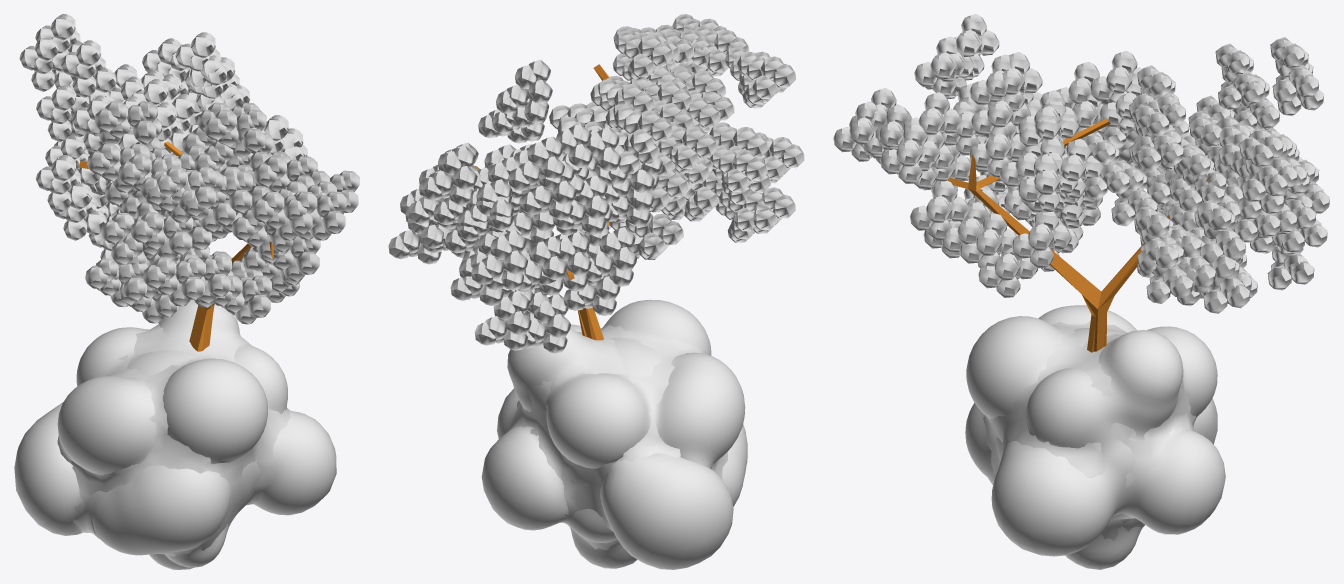
File: tree2.fbx
3 views of the same model, side by side, from view 1: azimuth 30°, elevation 25°; view 2: azimuth 150°, elevation 25°; view 3: azimuth 270°, elevation 25° (orthographic). The views are drawn at different scales.
Parts seen in each view (by area): view 1: particule, feuillage, feuillage.001, custom normals, Vert; view 2: particule, feuillage.001, feuillage, custom normals, Vert; view 3: particule, feuillage, feuillage.001, custom normals, Vert.
Boxes of the visible parts, box(x1,y1,x2,y2) form: particule: box(14, 299, 336, 569); feuillage: box(85, 101, 359, 324); feuillage.001: box(19, 14, 318, 258); custom normals: box(71, 324, 290, 556); Vert: box(79, 141, 273, 351); particule: box(481, 299, 747, 569); feuillage.001: box(388, 59, 662, 353); feuillage: box(549, 14, 804, 259); custom normals: box(508, 325, 727, 550); Vert: box(474, 64, 609, 340); particule: box(965, 305, 1225, 569); feuillage: box(833, 14, 1141, 297); feuillage.001: box(1083, 37, 1329, 313); custom normals: box(983, 321, 1196, 540); Vert: box(947, 118, 1212, 352).
Bounding box in the file's own units: 633 × 1007 × 867.
